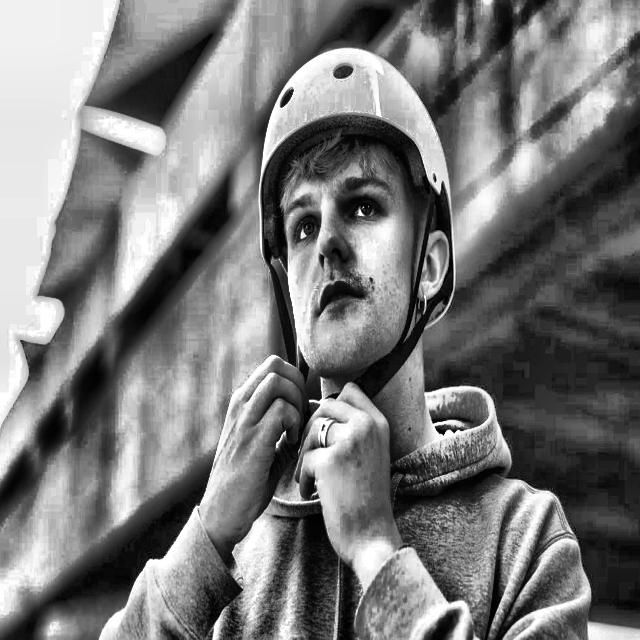Helmet: (256, 48, 458, 401)
